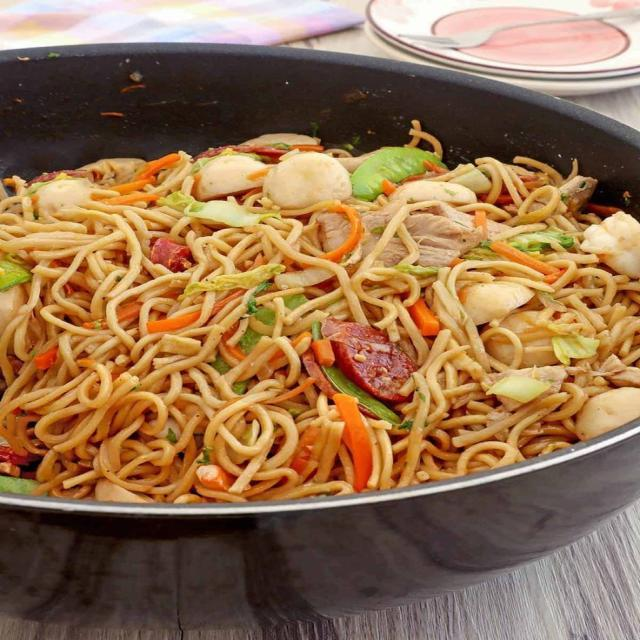pancit bihon: (11, 46, 640, 571)
